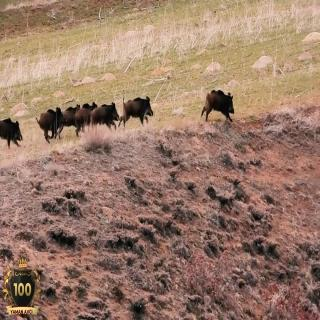Pig: (114, 94, 163, 150), (82, 92, 133, 143), (200, 79, 241, 130), (37, 101, 72, 146), (69, 99, 99, 148)
